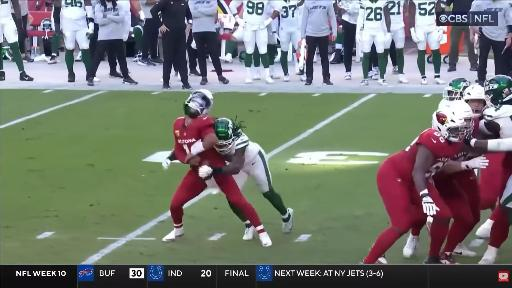Helmet: (432, 107, 469, 142), (446, 100, 475, 130), (184, 89, 213, 118), (463, 84, 489, 116), (485, 75, 511, 105), (214, 118, 235, 154), (443, 78, 470, 100), (39, 19, 53, 39), (39, 19, 53, 32)
Jersey: (390, 129, 463, 180), (174, 116, 214, 162), (243, 0, 283, 30), (482, 152, 511, 193), (228, 133, 260, 166), (483, 105, 511, 138), (360, 0, 386, 32), (61, 0, 87, 30), (410, 0, 437, 28), (280, 0, 300, 30), (387, 0, 404, 31), (452, 152, 481, 161), (0, 0, 11, 18)
Player: (363, 107, 470, 263), (199, 118, 293, 233), (163, 90, 225, 242), (467, 76, 511, 263), (424, 152, 488, 264), (424, 152, 488, 263), (230, 0, 285, 83), (53, 0, 94, 82), (408, 0, 444, 84), (356, 0, 391, 85), (0, 0, 33, 81), (279, 0, 304, 81), (385, 0, 408, 83), (480, 76, 511, 137), (118, 0, 145, 53), (480, 153, 505, 209), (463, 84, 490, 118), (131, 0, 145, 62), (267, 18, 279, 79), (443, 78, 470, 101)
